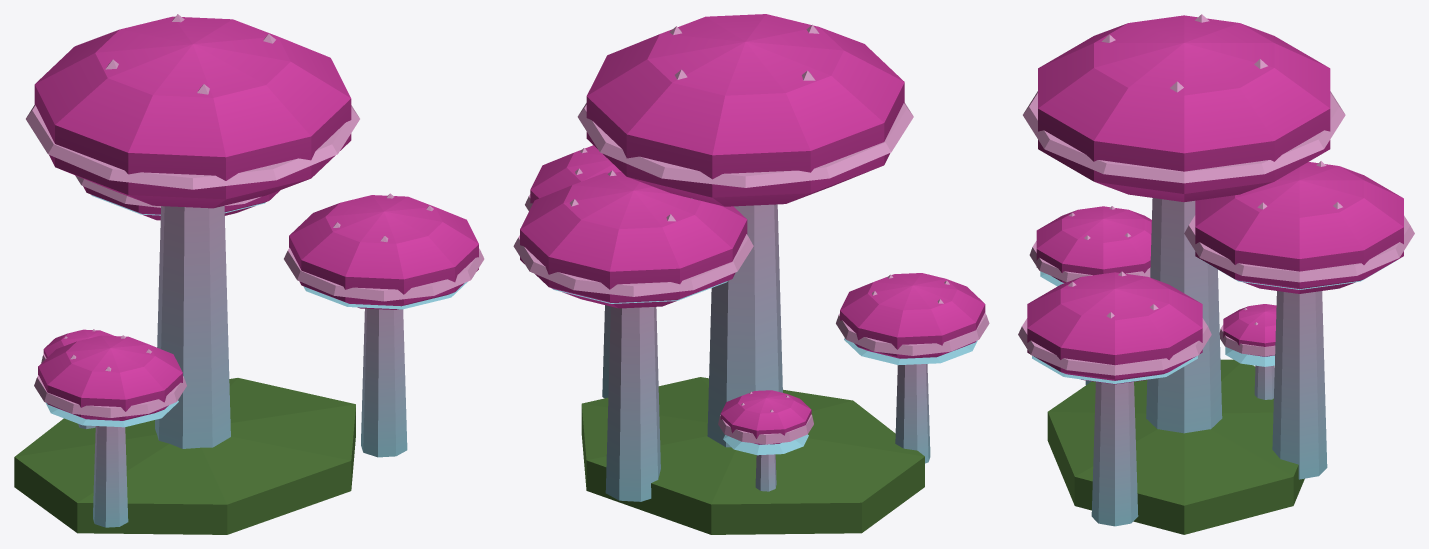
The model's file is neon_mushrooms_pink.glb.
The picture shows the model from 3 angles, left to right: view 1: azimuth 30°, elevation 25°; view 2: azimuth 150°, elevation 25°; view 3: azimuth 270°, elevation 25°; orthographic projection. The views are drawn at different scales.
Parts seen in each view (by area): view 1: neon_mushrooms_pink; view 2: neon_mushrooms_pink; view 3: neon_mushrooms_pink.
Part boxes in pixels (x1,y1,x2,y2): neon_mushrooms_pink: [14, 14, 484, 534]; neon_mushrooms_pink: [513, 14, 989, 534]; neon_mushrooms_pink: [1018, 14, 1414, 534].
Size of the model in its own units: 2.09 by 2.05 by 1.72.
